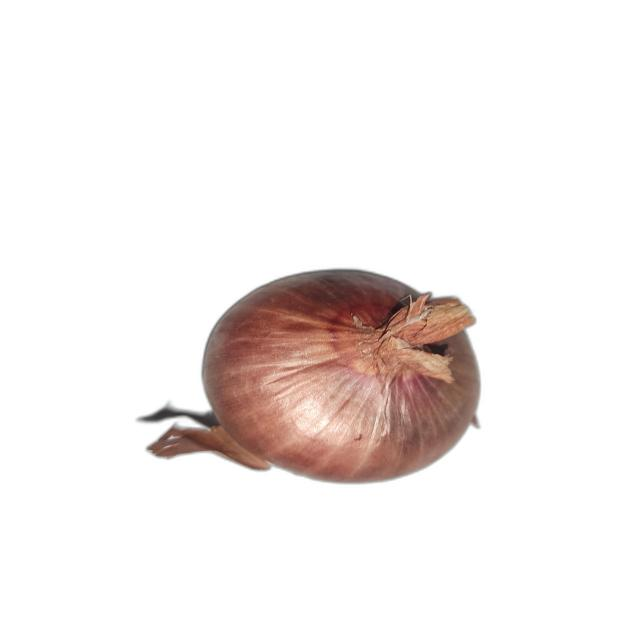onion: (146, 268, 483, 483)
